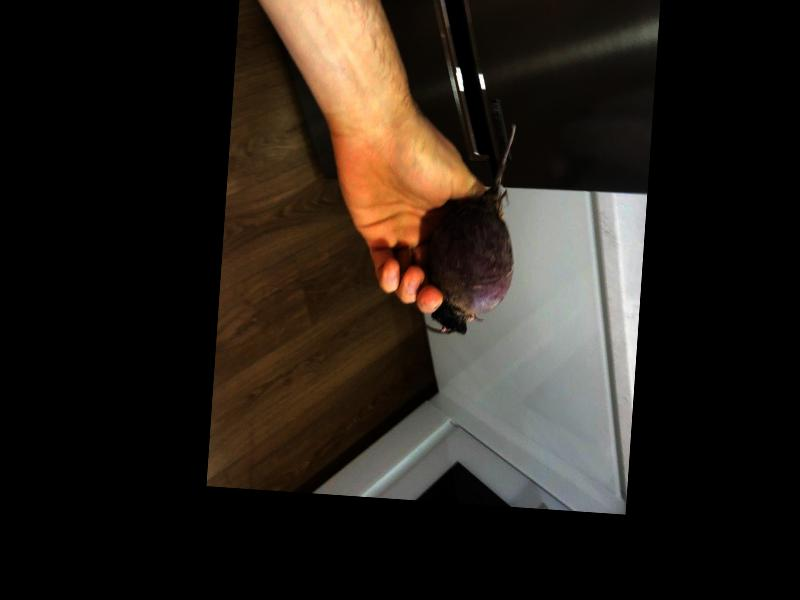Beet: (423, 119, 522, 339)
